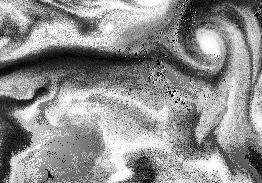CE: (172, 8, 243, 82)
